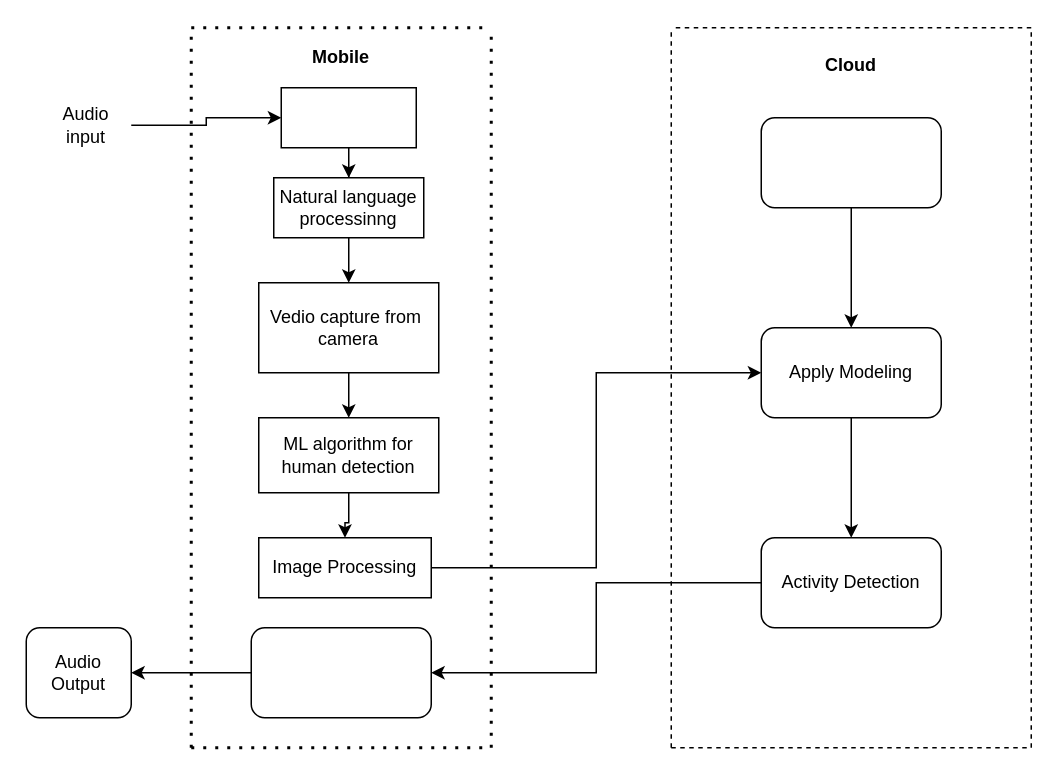
Image size: 1059x776. Some labels were removed from this diagram. The shapes that lost their labels are listed below. From the top down, each one's centre as x and y in pixels, then its label:
At point (348, 117): "microphone".
At point (850, 162): "Model Training".
At point (340, 672): "Natural Language processing".
